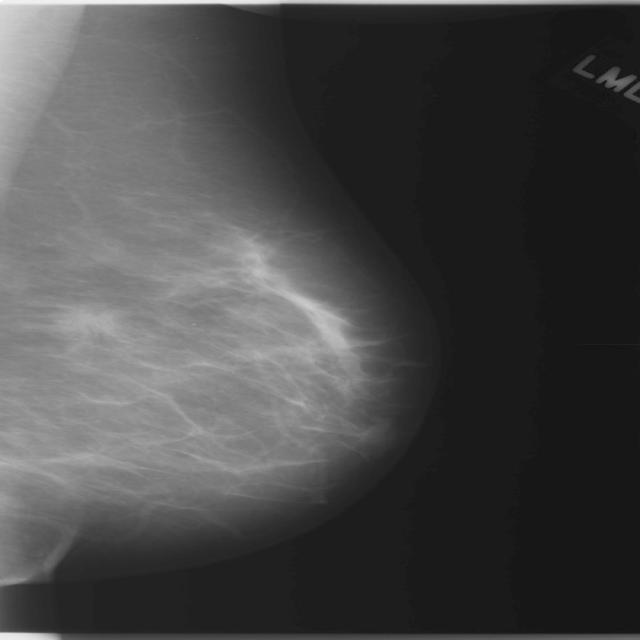tumour: (44, 300, 124, 340)
